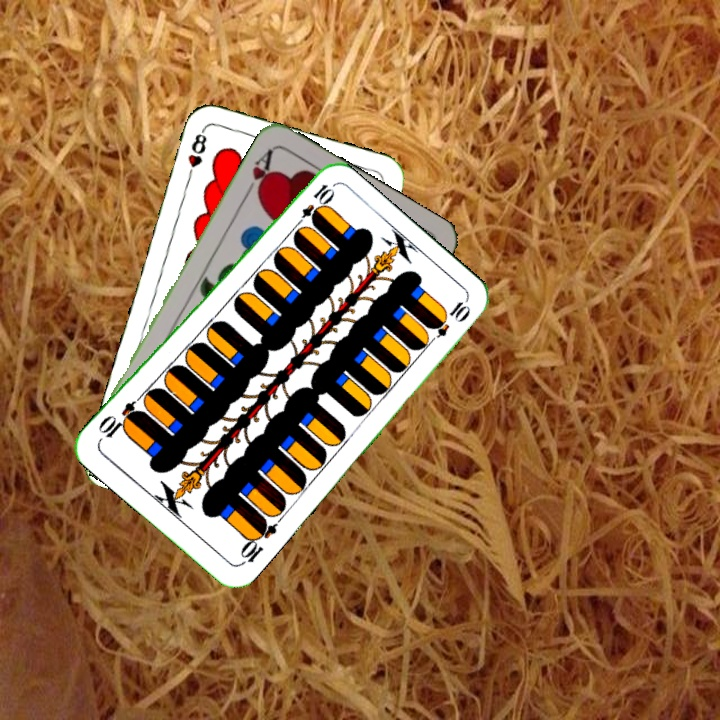E10: (236, 514, 280, 568), (290, 179, 334, 231)
H8: (183, 125, 210, 183)
HA: (241, 145, 276, 200)
